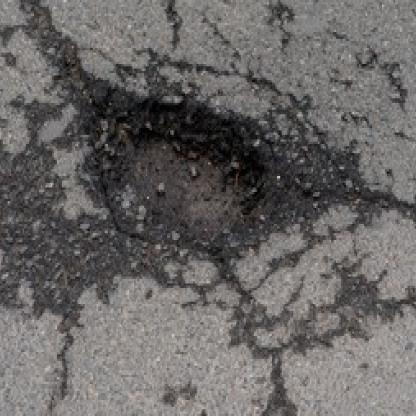pothole: (87, 82, 267, 261)
